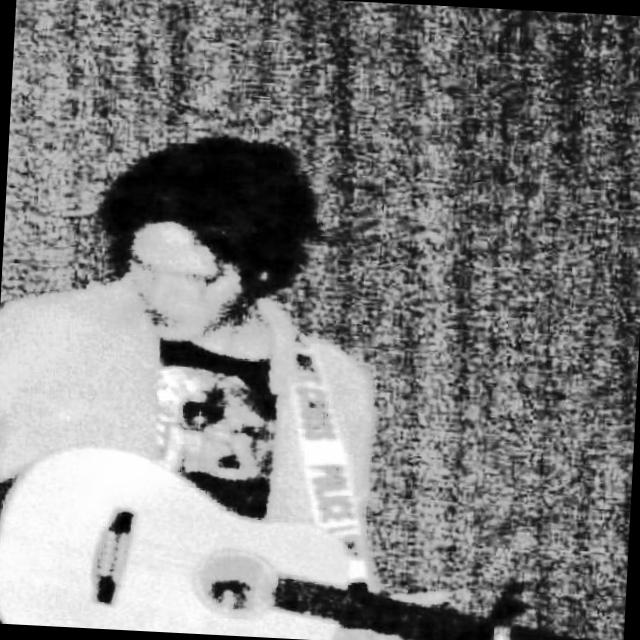Person: (0, 116, 471, 640)
